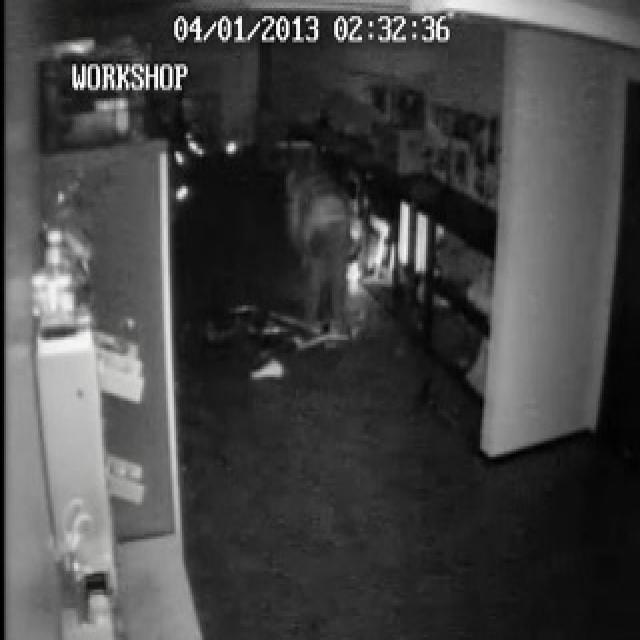thief: (284, 162, 354, 316)
